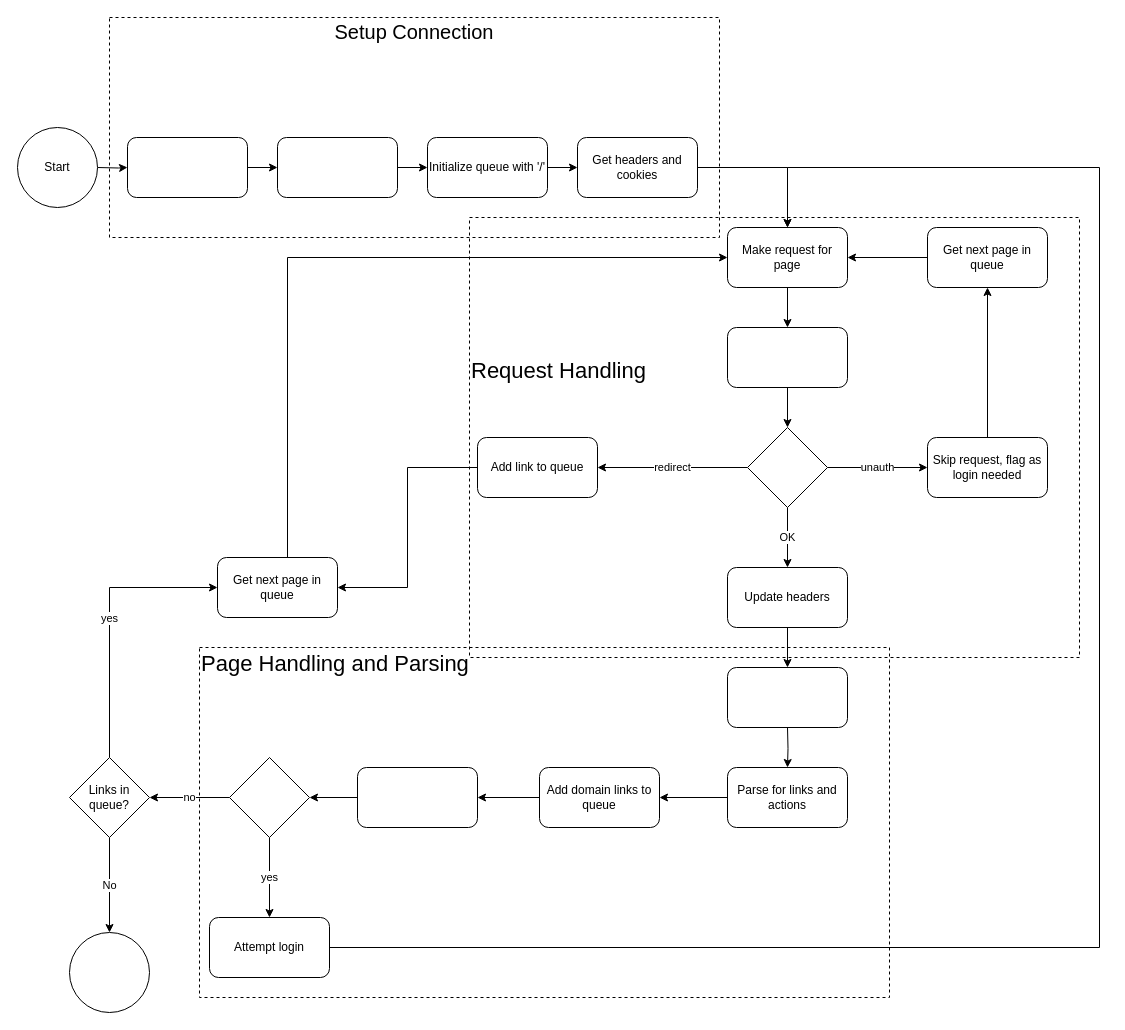
Image size: 1125x1030. Some labels were removed from this diagram. The shapes that lost their labels are listed below. From the top down, each one's centre as x and y in pixels, then its label:
[187,167]: Define Host/Port
[337,167]: Connect input/output
[787,357]: Check response type
[787,467]: Response Code
[787,697]: Read in page
[269,797]: Has login action
[417,797]: Save page as .html in local
[109,972]: End
